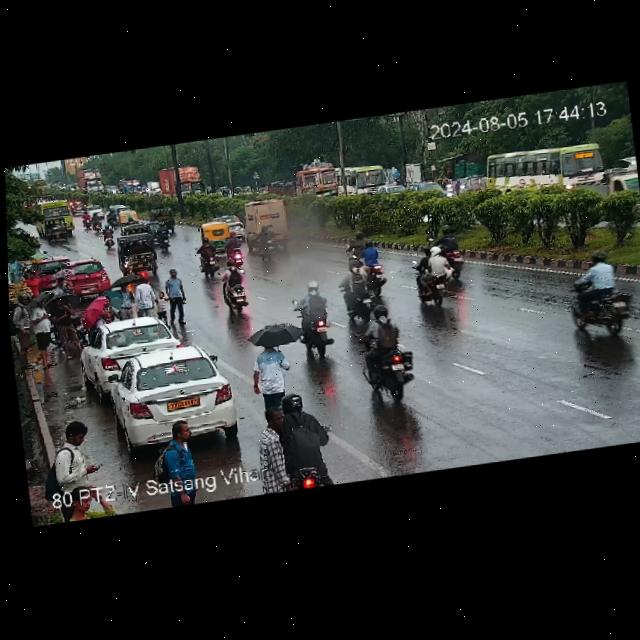bus: (478, 136, 610, 197), (336, 160, 387, 202), (32, 194, 81, 235)
car: (102, 343, 238, 454), (80, 311, 181, 382), (241, 194, 296, 253), (57, 258, 110, 298), (117, 231, 162, 274), (26, 251, 69, 285), (198, 219, 235, 243), (42, 217, 69, 247), (116, 205, 136, 226), (149, 207, 174, 221)
motorcycle: (560, 247, 640, 341), (356, 307, 413, 409), (281, 390, 337, 491), (403, 240, 462, 308), (193, 234, 245, 279), (339, 255, 374, 316), (425, 226, 471, 266), (344, 236, 385, 280), (219, 260, 246, 310), (252, 225, 280, 264), (148, 218, 176, 254), (102, 222, 115, 249), (91, 211, 106, 231), (83, 211, 96, 230)
person: (47, 419, 107, 492), (243, 329, 295, 411), (158, 419, 203, 505), (252, 408, 295, 495), (9, 289, 39, 375), (47, 292, 82, 362), (27, 292, 58, 369), (155, 266, 191, 326), (73, 482, 125, 520), (101, 279, 141, 323), (130, 274, 162, 320), (97, 296, 114, 325), (27, 268, 41, 297)
truck: (270, 154, 340, 200), (156, 159, 205, 199), (73, 167, 103, 192)
